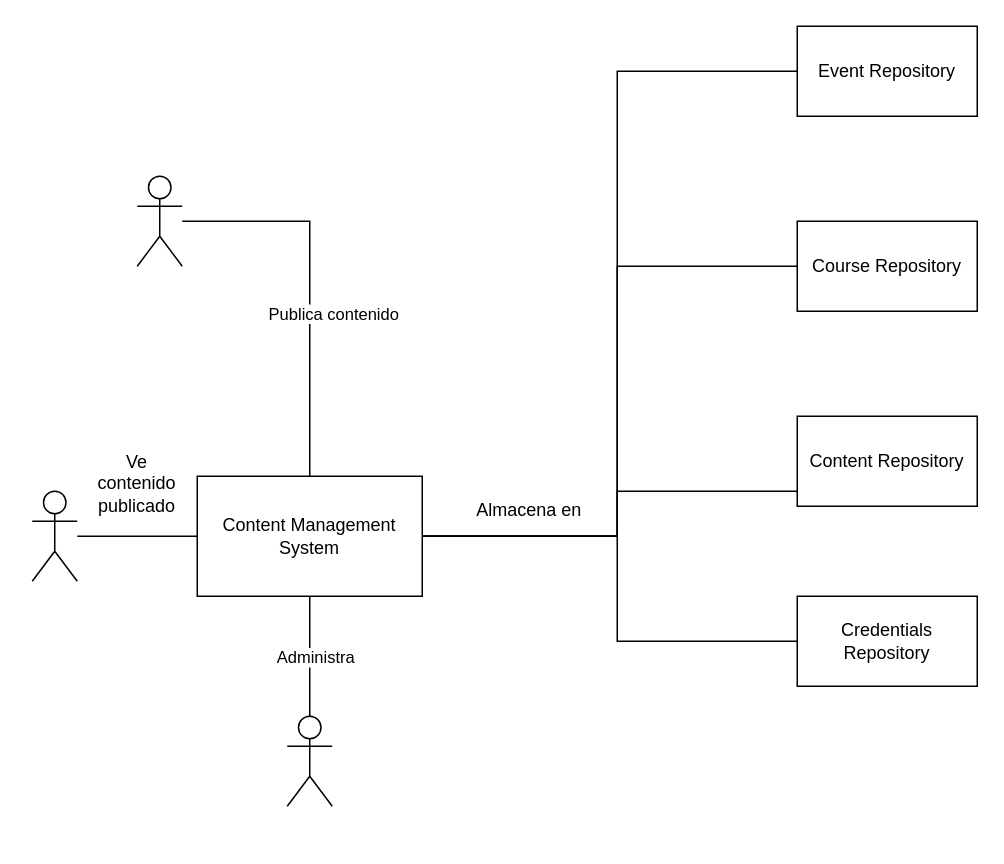
The diagram is 1004 pixels wide and 864 high, and some of its shapes have lost their labels. Here are the shapes that lost their labels. From the top down, the centre of each, then its label:
pixel 159 220: Profesor
pixel 54 535: Público
pixel 309 760: Administrador
